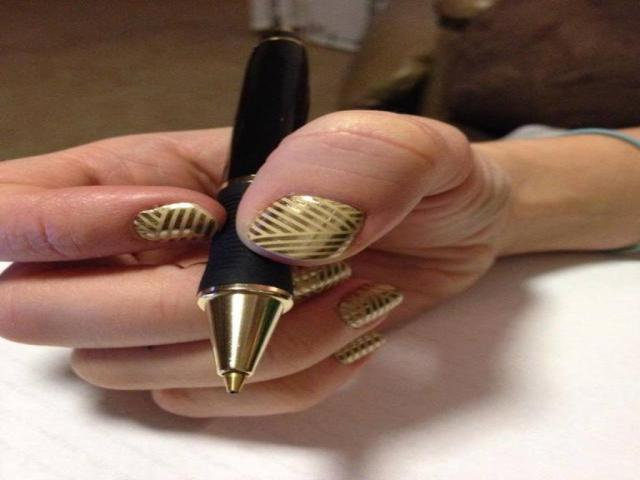PEN: (200, 33, 337, 406)
